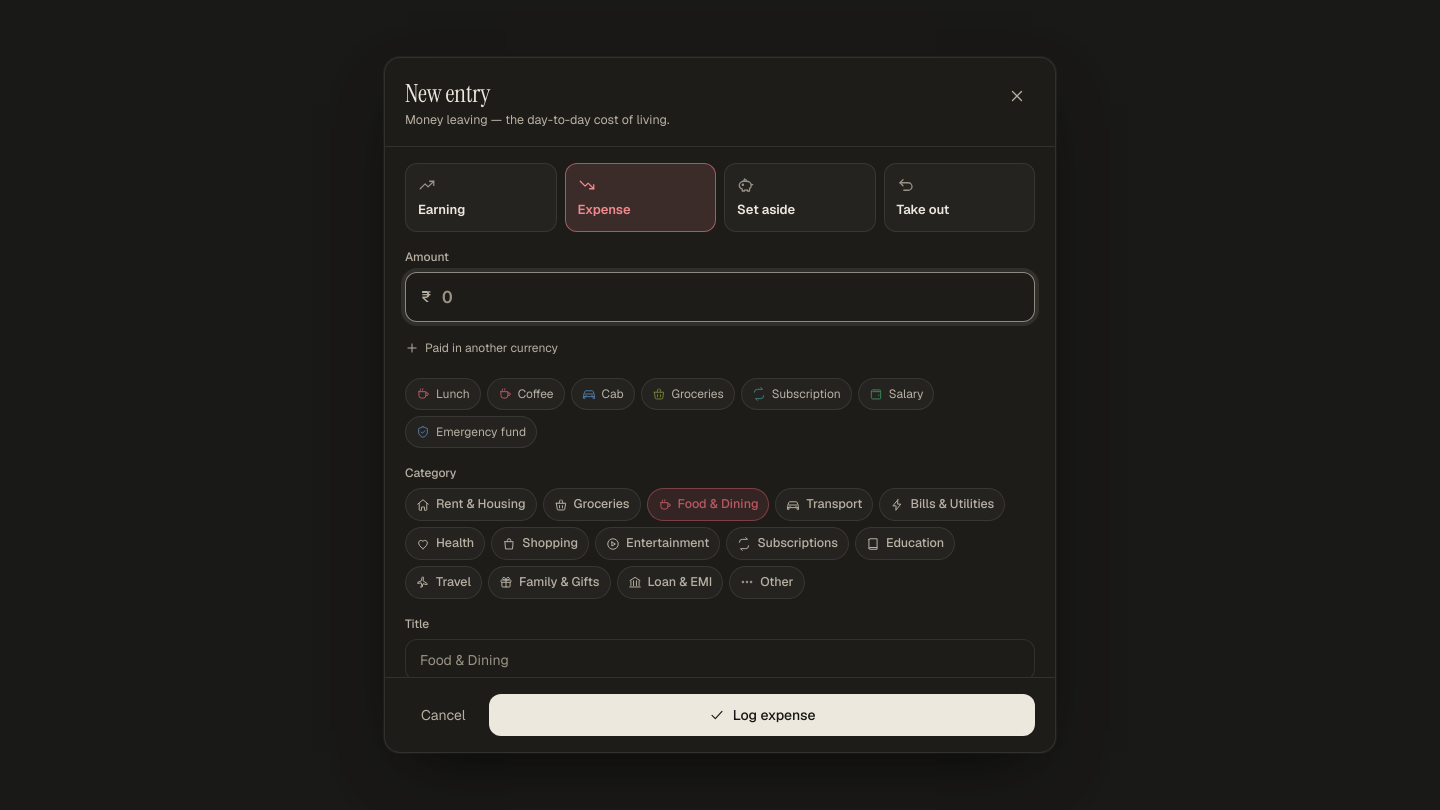
switching kind › relabels the save button for the chosen kind
Check: the button "Log expense" is shown, box [489, 694, 1035, 736]
Click the button "Set aside": click(800, 197) [724, 163, 876, 232]
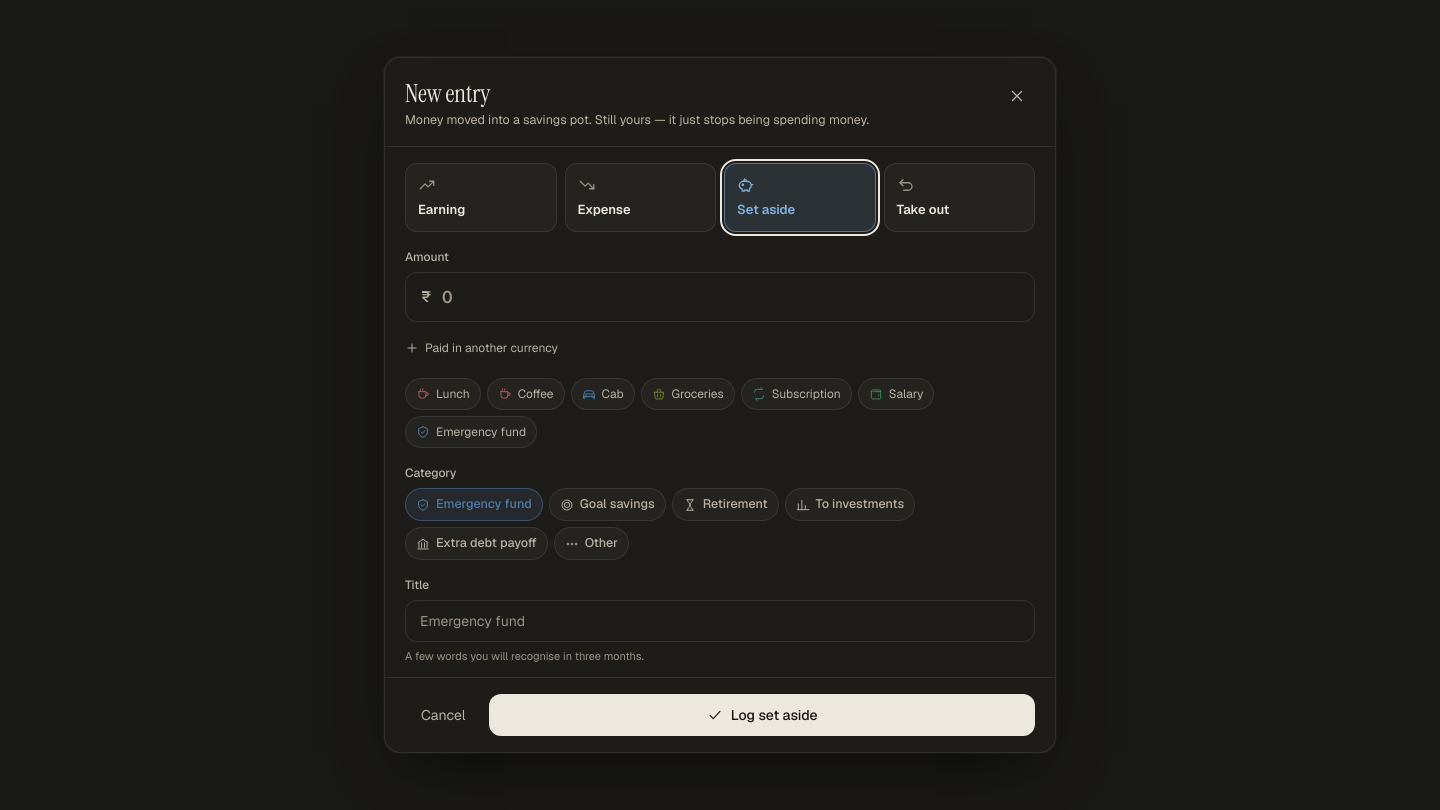
Check: the button "Log set aside" is shown, box [489, 694, 1035, 736]
